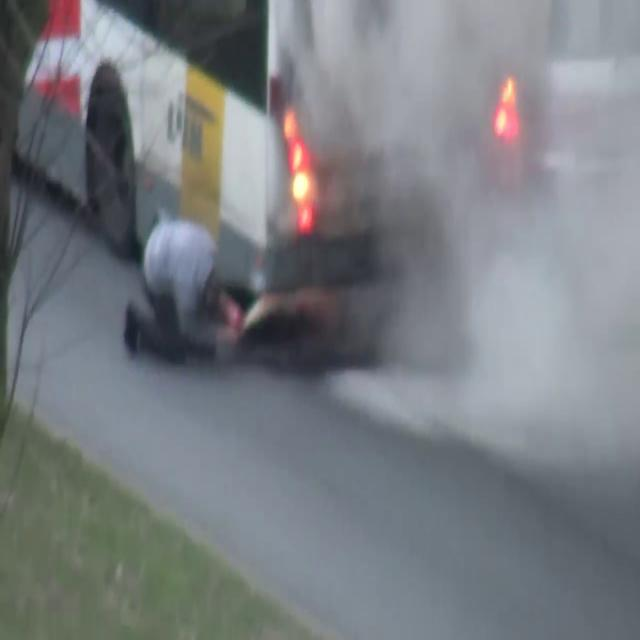Fire: (282, 102, 316, 228), (494, 70, 518, 146)
Smoke: (293, 0, 640, 506)
